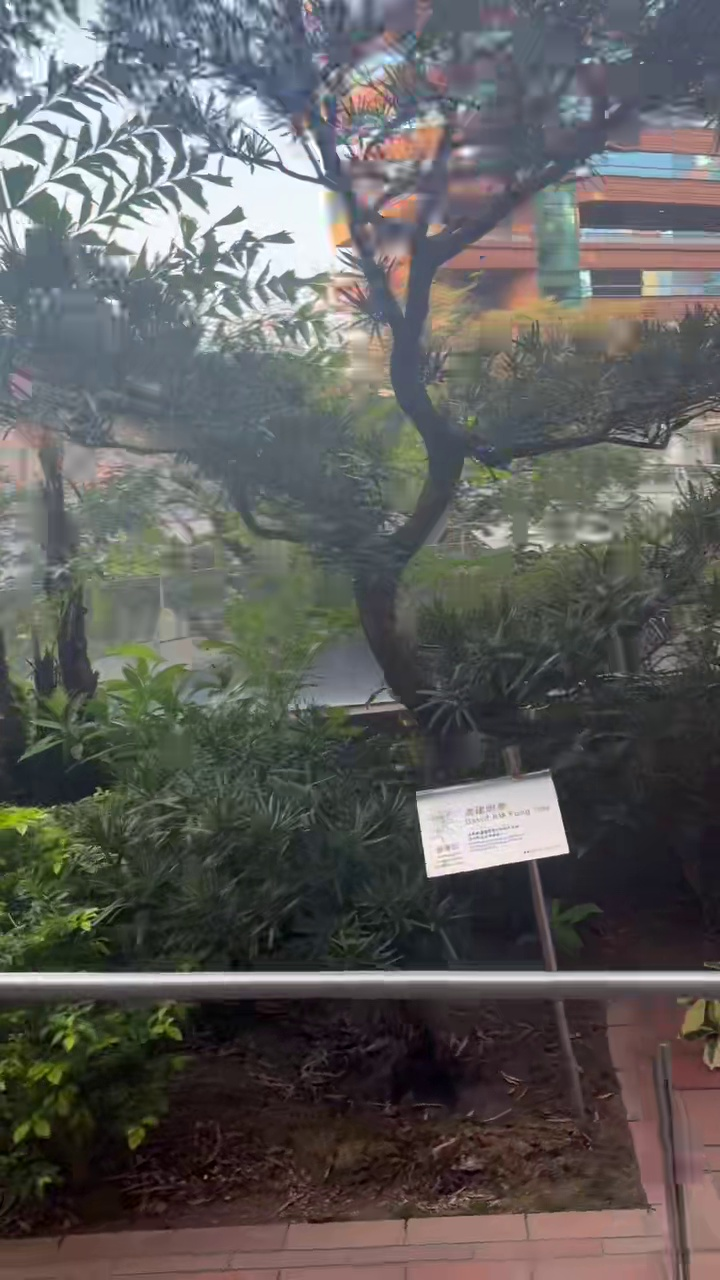Podocarpus macrophyllus: (16, 0, 719, 731)
